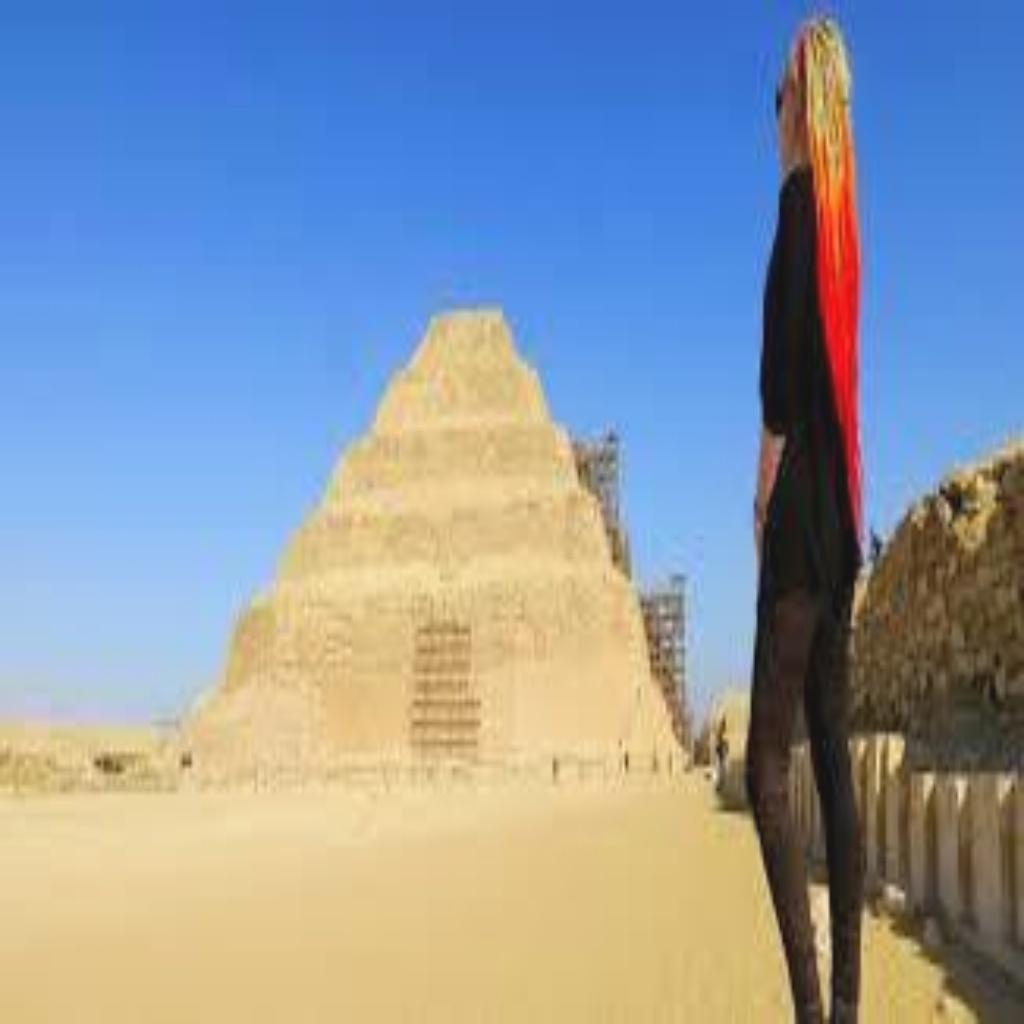Pyramid of Djoser: (170, 290, 691, 792)
